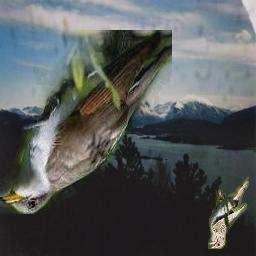Cuckoo: (0, 30, 172, 214)
Sparrow: (209, 177, 250, 249)
